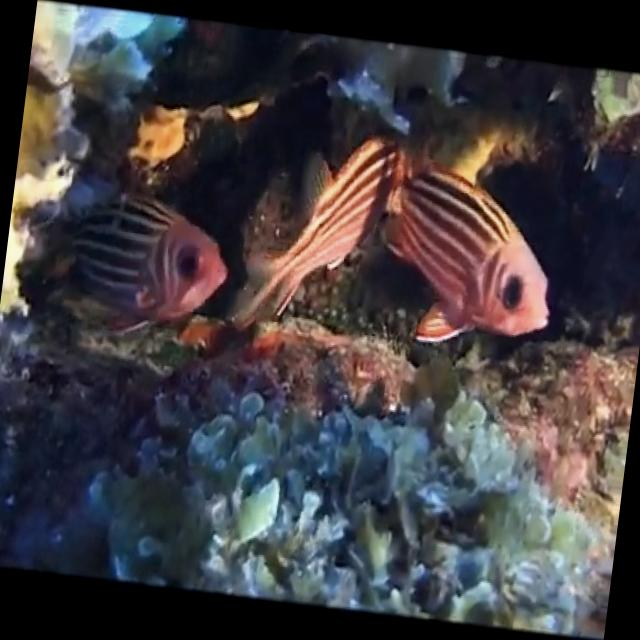Asker Baligi: (232, 115, 572, 368), (36, 159, 244, 339)
